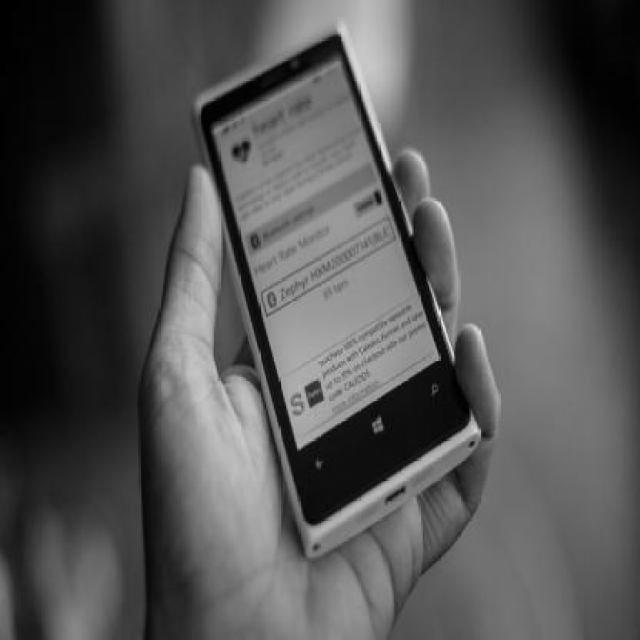fake: (192, 27, 477, 550)
